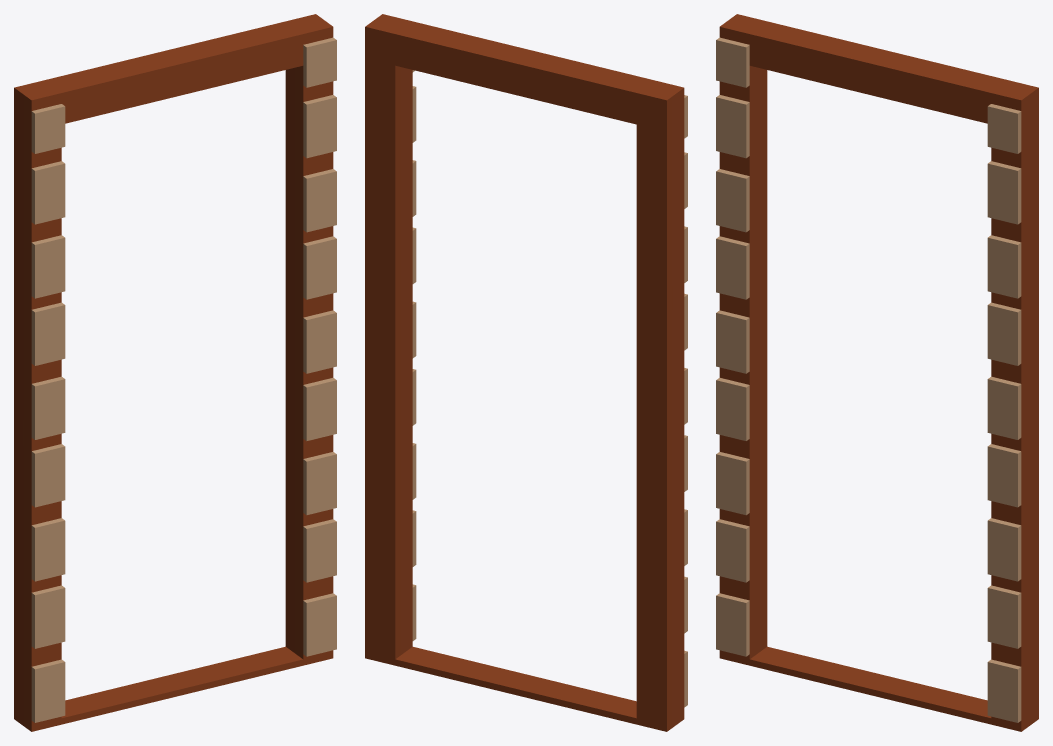
File: BrickV1Doorframe.fbx
3 views of the same model, side by side, from view 1: azimuth 30°, elevation 25°; view 2: azimuth 150°, elevation 25°; view 3: azimuth 330°, elevation 25° (orthographic).
Parts seen in each view (by area): view 1: BrickV1Doorframe; view 2: BrickV1Doorframe; view 3: BrickV1Doorframe.
Part boxes in pixels (box(x1,y1,x2,y2)): BrickV1Doorframe: box(14, 14, 336, 731); BrickV1Doorframe: box(365, 14, 687, 731); BrickV1Doorframe: box(716, 14, 1038, 731).
Size of the model in its own units: 100 by 200 by 12.
